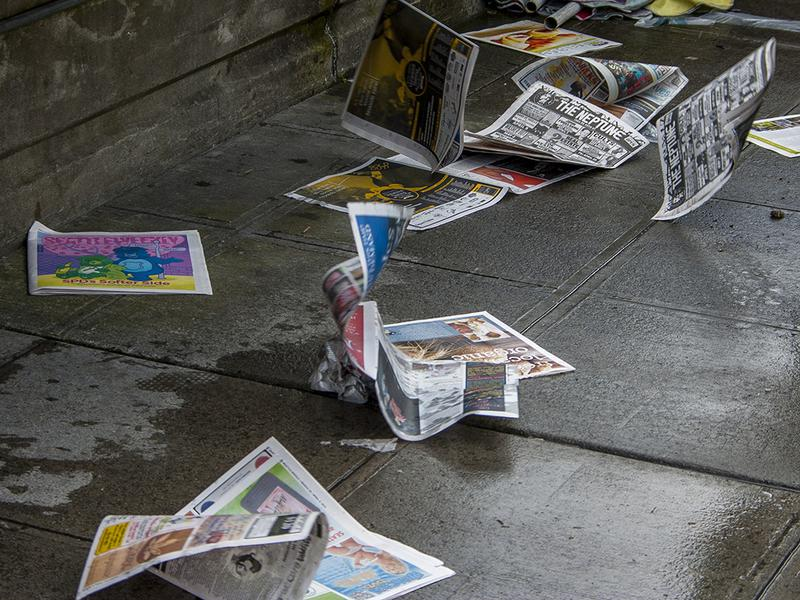paper: (61, 429, 460, 600), (318, 199, 579, 444), (647, 35, 788, 229), (337, 2, 483, 171), (279, 148, 527, 237), (465, 73, 649, 172), (20, 221, 217, 302), (458, 14, 627, 57)
